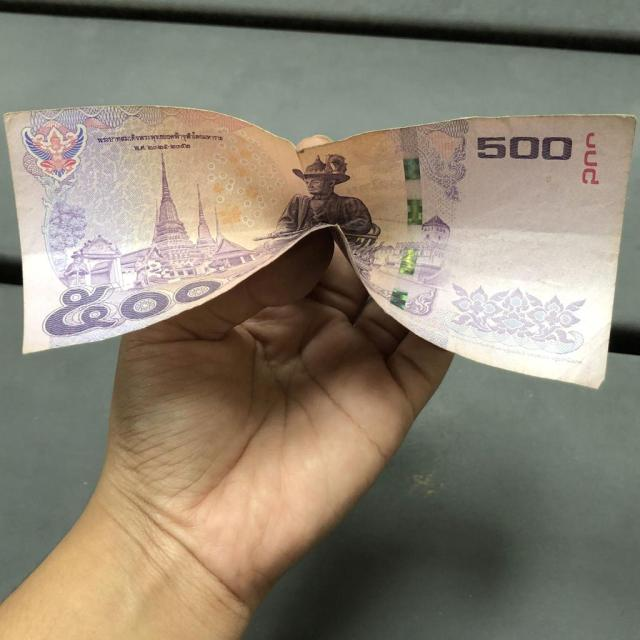THAI500: (6, 106, 636, 388)
